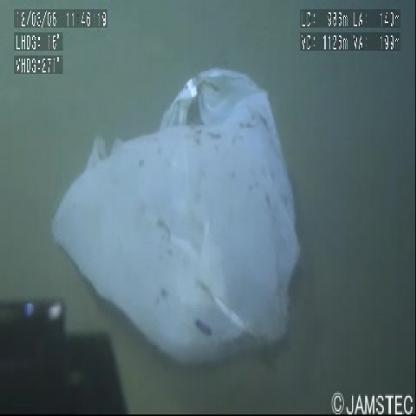Rov: (1, 286, 130, 416)
Rác: (44, 57, 310, 373)
